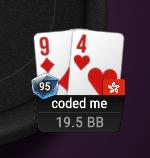4h: (71, 29, 122, 96)
9d: (33, 29, 70, 94)
